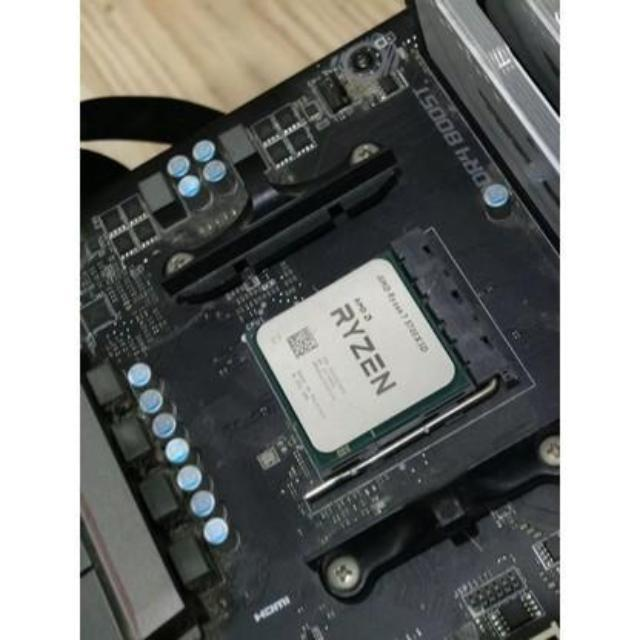CPU: (257, 256, 457, 454)
